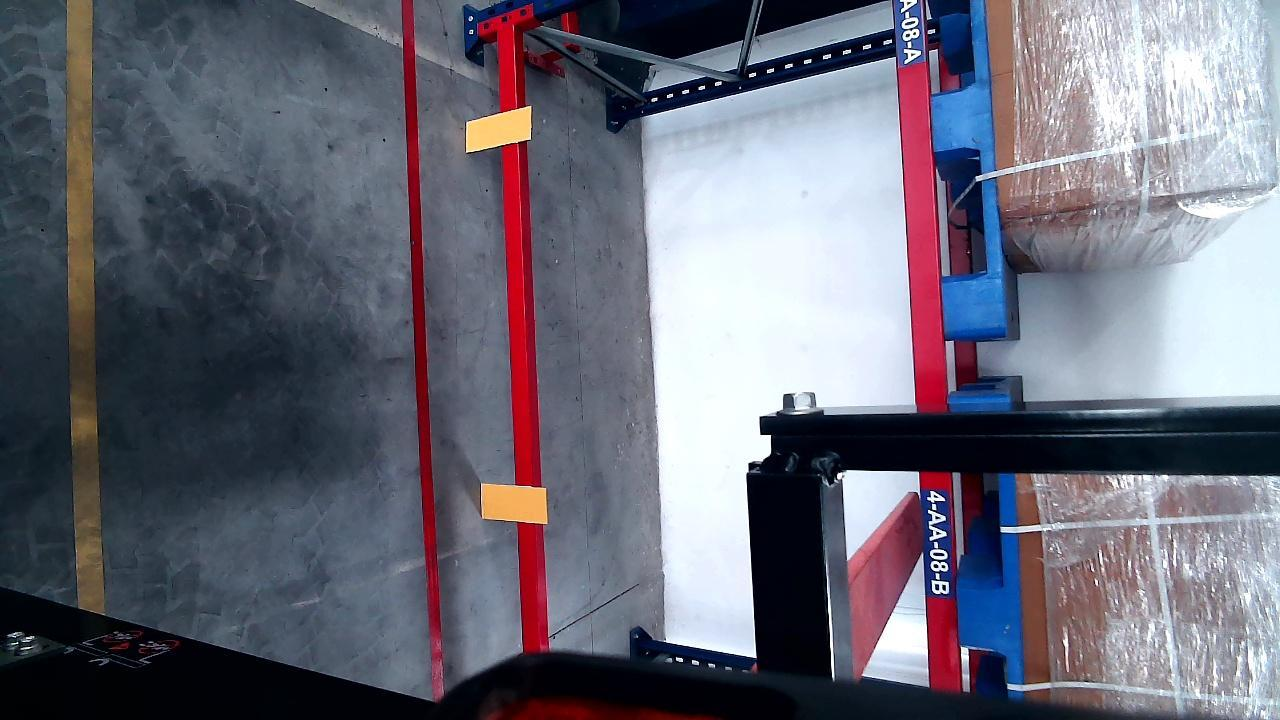red_line: (399, 1, 446, 695)
yellow_line: (65, 0, 102, 613)
